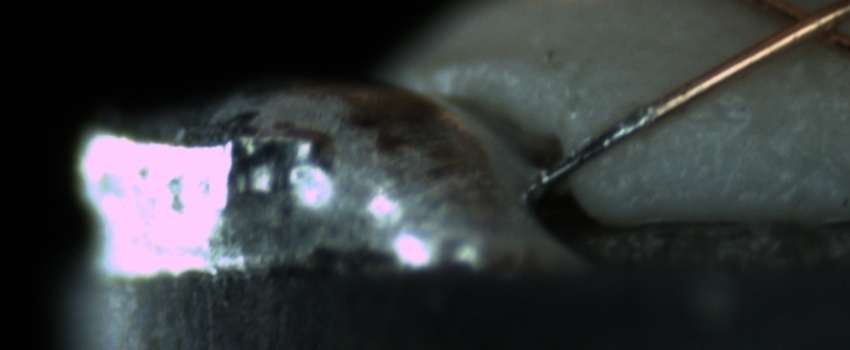CL: (757, 0, 849, 58)
DL: (603, 84, 740, 145)
TS: (539, 103, 659, 190)
TTCW: (537, 77, 699, 187)
